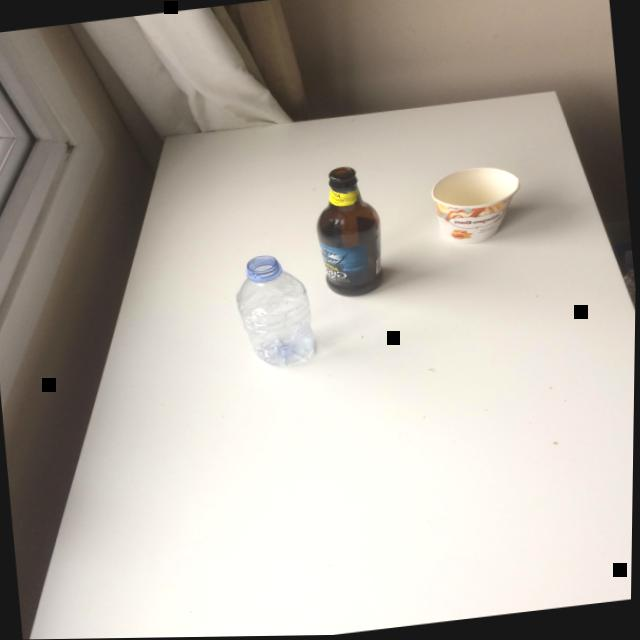Clear plastic bottle: (237, 256, 316, 365)
Glass bottle: (317, 167, 384, 297)
Paper cup: (432, 168, 520, 245)
